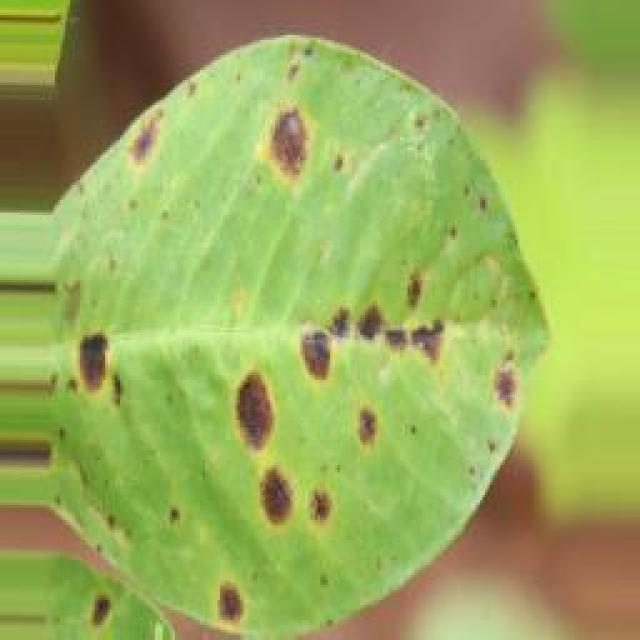Yellowish: (65, 30, 535, 640)
